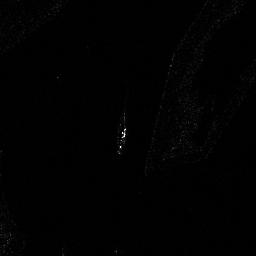ship: (114, 127, 128, 157)
